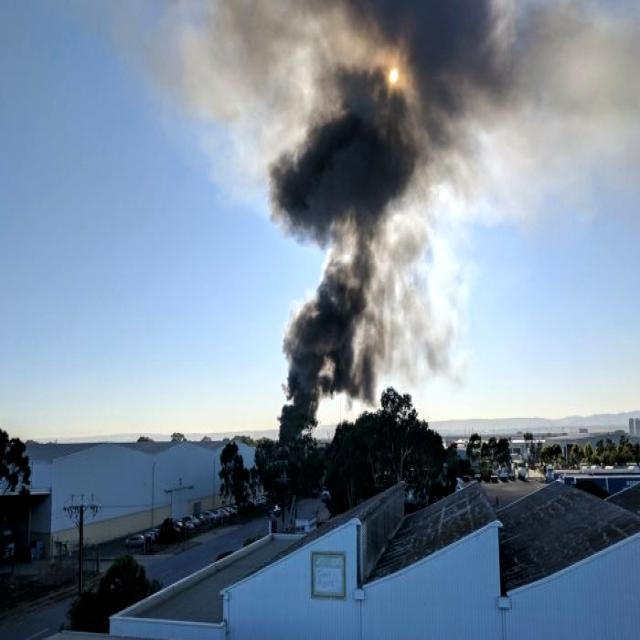Smoke: (182, 0, 586, 240), (273, 92, 428, 438)
